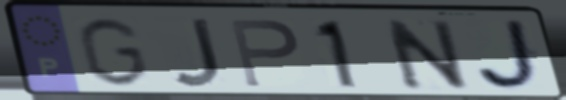1: (311, 18, 361, 90)
G: (73, 16, 152, 90)
J: (472, 18, 547, 93), (167, 16, 225, 90)
N: (379, 16, 474, 92)
P: (225, 17, 303, 90)
